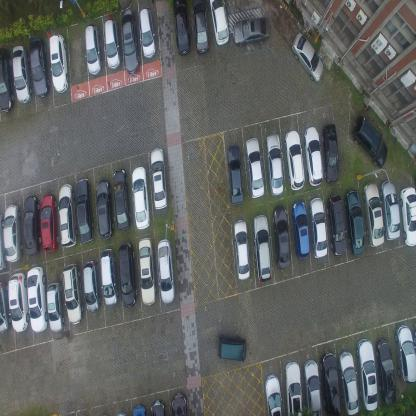car: (352, 113, 388, 168), (292, 30, 324, 83), (319, 351, 345, 415), (356, 337, 377, 412), (344, 188, 366, 256), (362, 179, 384, 246), (284, 128, 306, 192), (117, 241, 138, 308), (27, 265, 48, 332), (252, 213, 272, 283), (380, 178, 402, 241), (326, 191, 347, 257), (28, 34, 50, 96), (62, 262, 84, 324), (376, 338, 396, 406), (137, 238, 157, 306), (48, 33, 70, 94), (394, 323, 416, 383), (8, 274, 30, 334), (338, 350, 358, 415), (57, 183, 77, 247), (120, 8, 139, 74), (11, 44, 32, 103), (2, 204, 23, 263), (113, 167, 132, 232), (233, 14, 270, 47), (303, 125, 323, 186), (265, 132, 284, 196), (245, 136, 264, 200), (131, 166, 150, 230), (76, 176, 94, 243), (272, 204, 291, 267), (157, 238, 175, 304), (95, 178, 114, 240), (23, 195, 42, 256), (232, 218, 250, 282), (150, 146, 168, 210), (291, 198, 310, 258), (226, 142, 244, 205), (40, 193, 59, 252), (303, 358, 322, 416), (191, 0, 211, 55), (138, 6, 158, 61), (284, 360, 304, 415), (322, 122, 340, 183), (309, 198, 327, 258), (172, 0, 191, 56), (100, 248, 118, 306), (400, 184, 416, 248), (102, 19, 121, 70), (0, 47, 15, 111), (46, 282, 65, 332), (209, 0, 229, 47), (84, 23, 102, 75), (83, 260, 101, 312), (215, 333, 247, 361), (264, 373, 284, 415), (0, 280, 12, 336), (171, 391, 188, 416), (149, 397, 166, 415)
